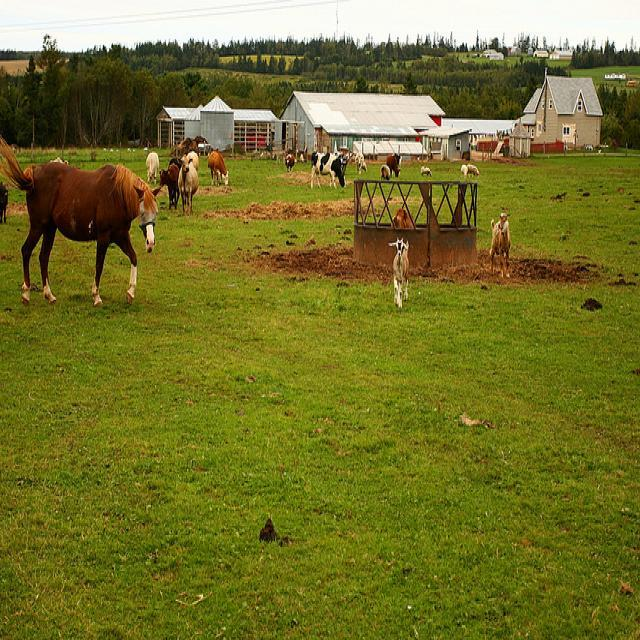cow: (309, 148, 344, 189), (176, 151, 197, 213), (157, 161, 178, 209), (207, 148, 227, 183), (144, 148, 158, 183), (185, 149, 197, 170)
